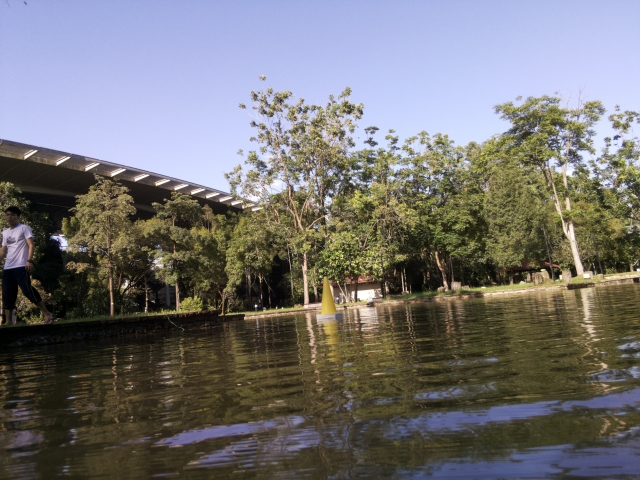checkpoint: (314, 270, 344, 323)
